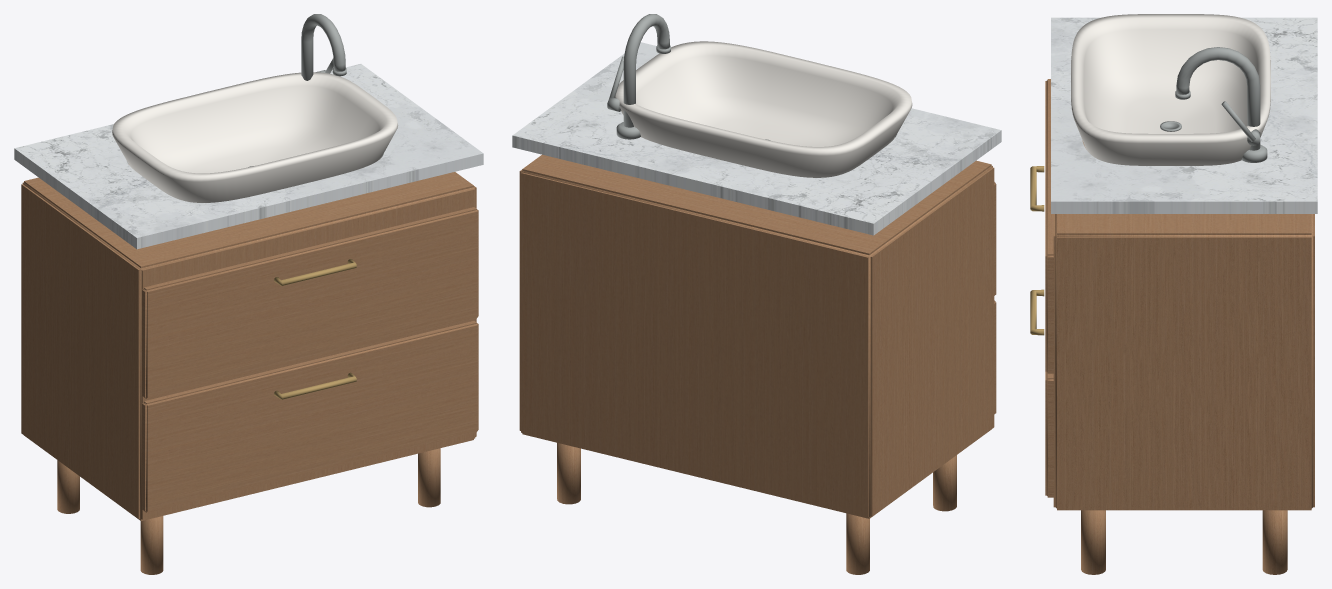
File: contemporary.vanity.gltf
3 views of the same model, side by side, from view 1: azimuth 30°, elevation 25°; view 2: azimuth 150°, elevation 25°; view 3: azimuth 270°, elevation 25° (orthographic). The views are drawn at different scales.
Parts seen in each view (by area): view 1: contemporary.vanity.foot; view 2: contemporary.vanity.foot; view 3: contemporary.vanity.foot.
Part boxes in pixels (bbox=[...]): contemporary.vanity.foot: bbox=[14, 14, 483, 574]; contemporary.vanity.foot: bbox=[512, 14, 1001, 574]; contemporary.vanity.foot: bbox=[1030, 14, 1317, 574].
Bounding box in the file's own units: 0.8 × 1.01 × 0.528.
5 materials, 2 textured.
